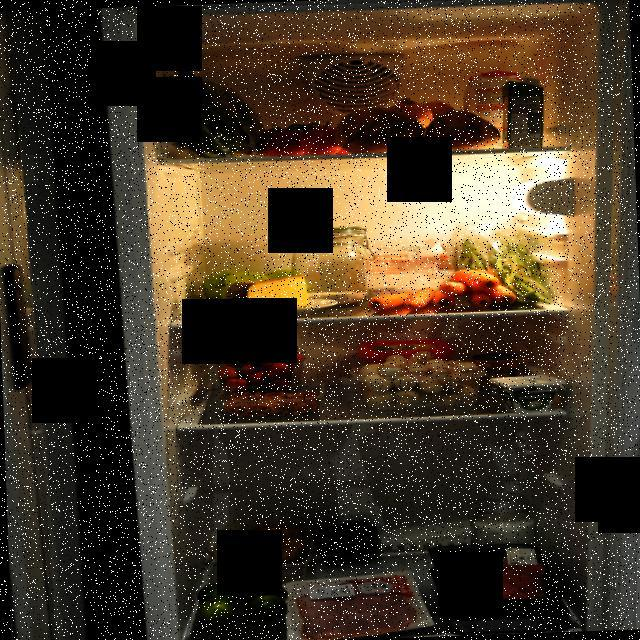Carne cerdo: (293, 584, 419, 639)
Carne vacuno: (439, 550, 550, 604)
Cebolla: (382, 96, 458, 130)
Champiñones: (354, 348, 486, 412)
Gambas/Langostinos: (222, 389, 324, 421)
Mantequilla: (356, 336, 457, 367)
Manzana: (201, 270, 305, 302)
Patata: (220, 518, 314, 580)
Queso: (224, 274, 318, 310), (488, 374, 566, 413)
Tomate: (252, 117, 356, 157)
Zanahoria: (432, 268, 516, 314), (367, 286, 431, 316)
blueberries: (311, 515, 383, 563)
corn: (472, 351, 518, 389)
flour: (284, 220, 370, 305), (364, 234, 462, 300)
green_beans: (444, 213, 556, 310)
heavy_cream: (502, 76, 546, 150)
spinach: (150, 48, 268, 164)
strawberries: (212, 350, 314, 390)
sugar: (460, 65, 525, 154), (470, 490, 538, 556)
sweet_potato: (342, 104, 500, 158)
